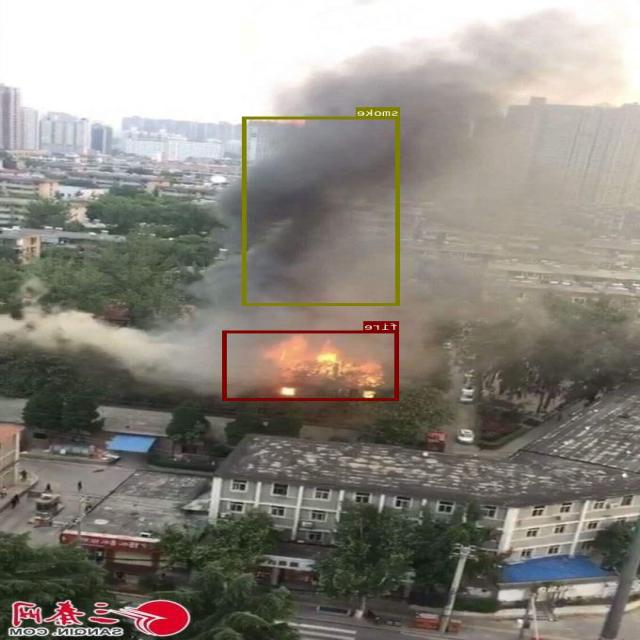fire: (224, 330, 399, 400)
smoke: (243, 116, 400, 305)
